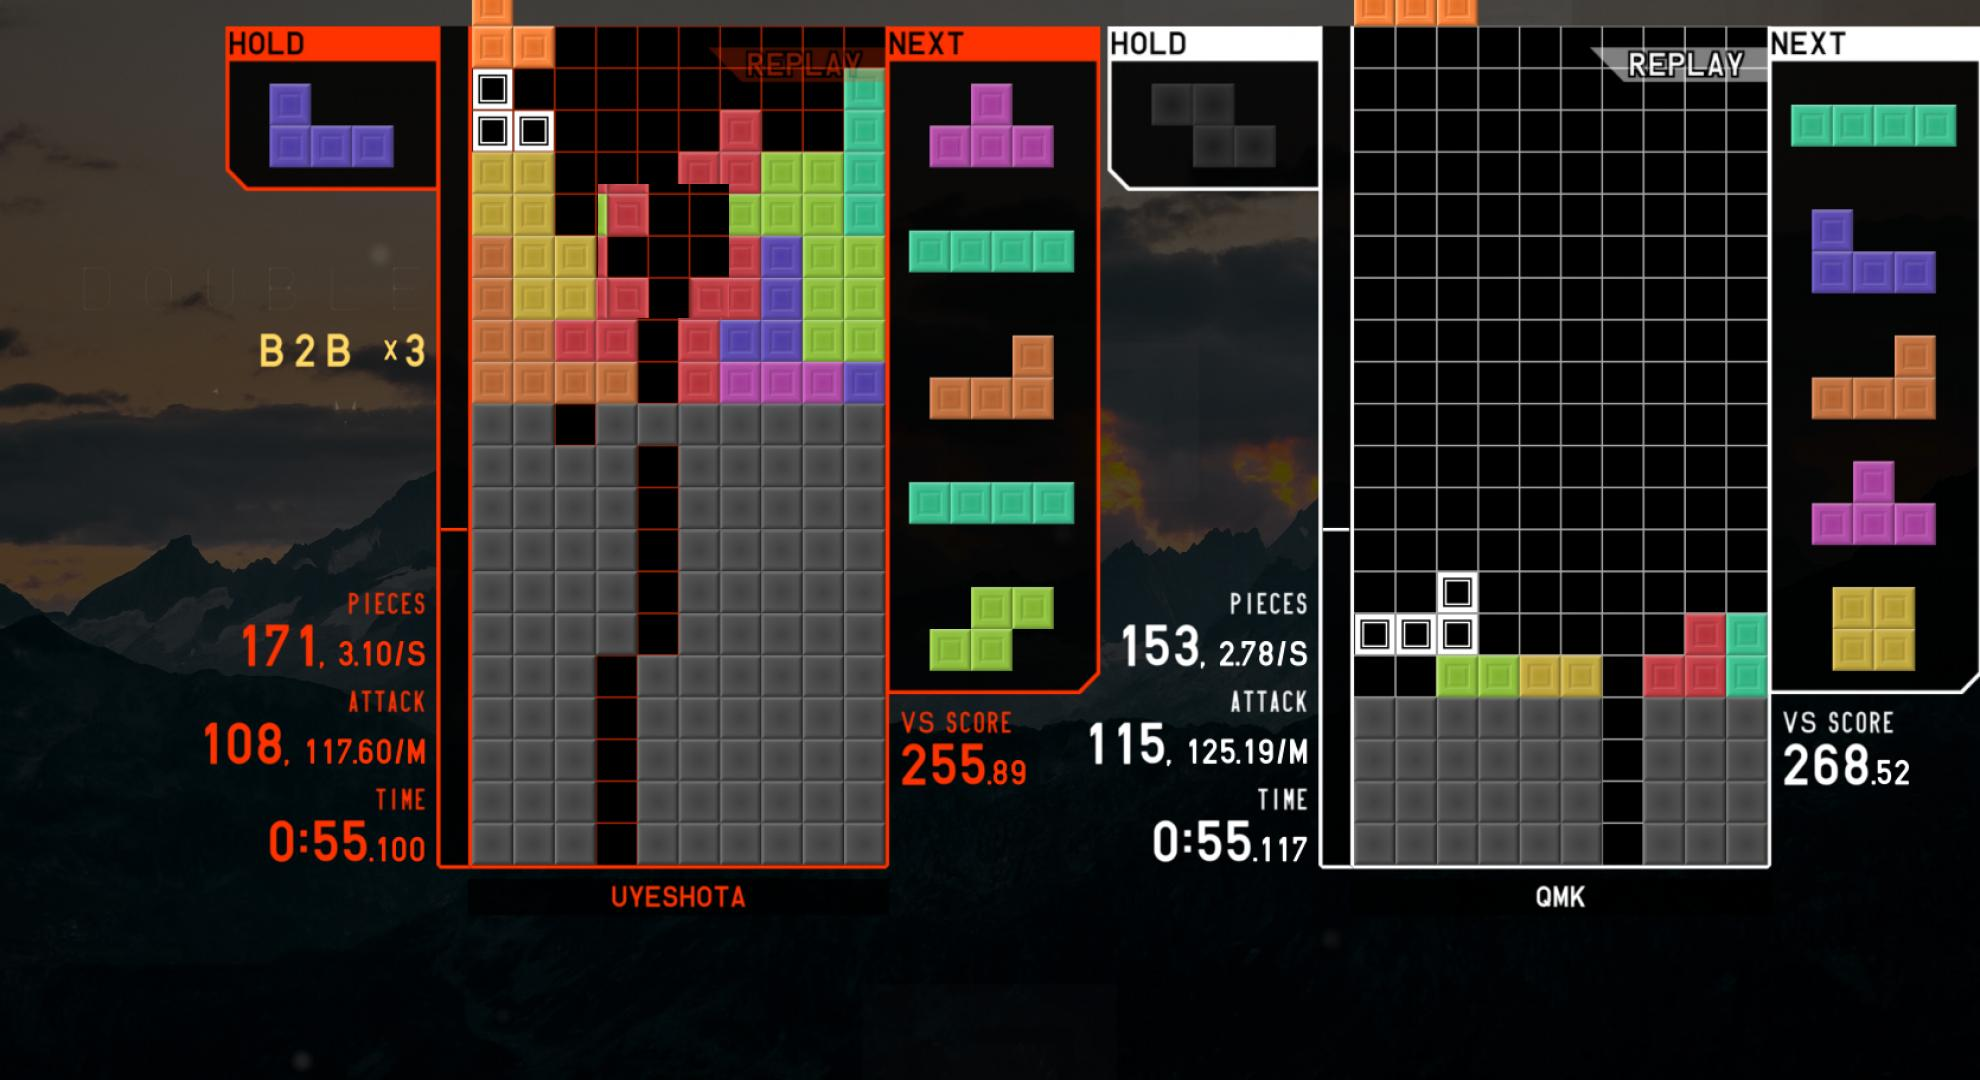tspin: (598, 185, 729, 318)
